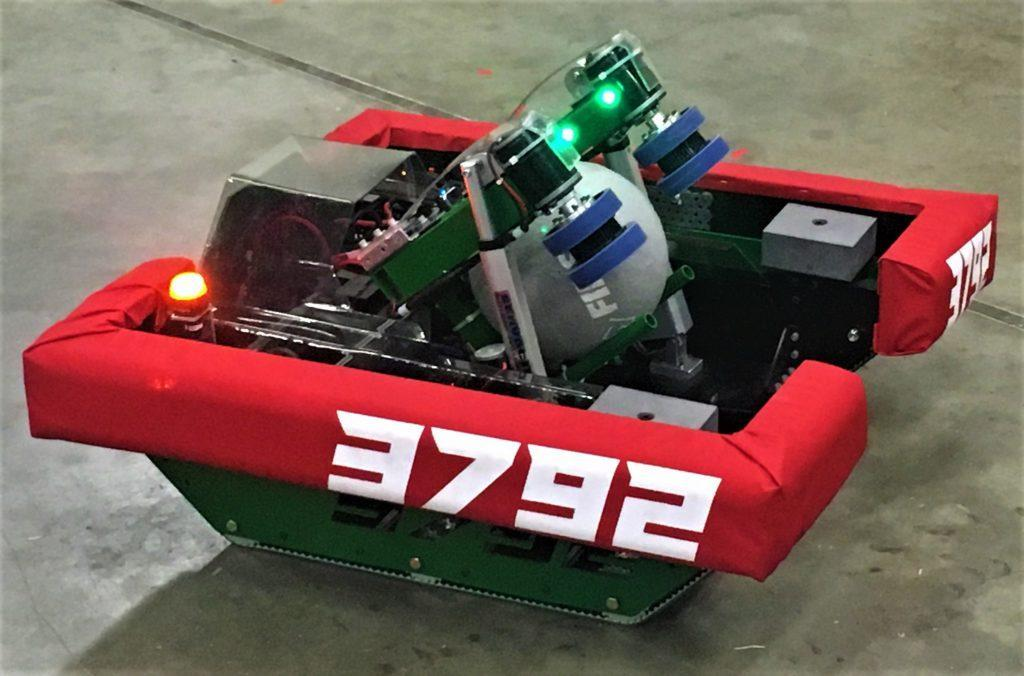robot: (20, 20, 1006, 630)
